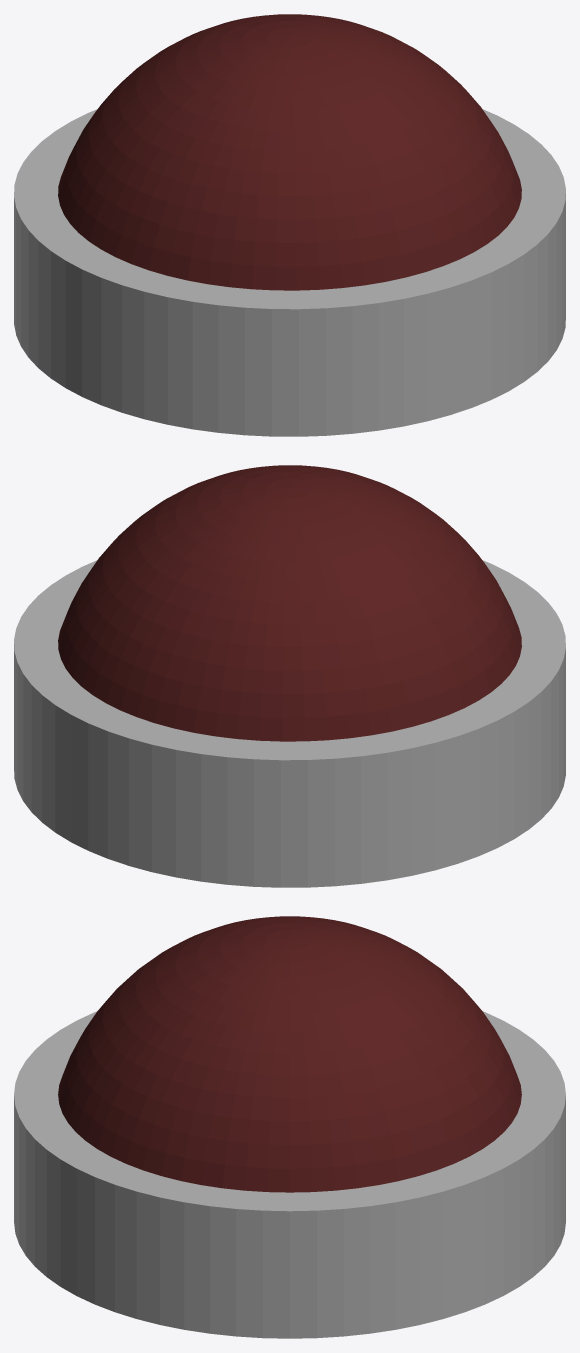
The model's file is indicatorInactive.fbx.
3 renders of one model, top to bottom at view 1: azimuth 30°, elevation 25°; view 2: azimuth 150°, elevation 25°; view 3: azimuth 270°, elevation 25°, orthographic.
Visible parts, largest first — view 1: Sphere, Cylinder; view 2: Sphere, Cylinder; view 3: Sphere, Cylinder.
Part boxes in pixels (<box>): Sphere: <box>58,14,521,290</box>; Cylinder: <box>14,109,565,436</box>; Sphere: <box>58,465,521,741</box>; Cylinder: <box>14,560,565,887</box>; Sphere: <box>58,916,521,1192</box>; Cylinder: <box>14,1011,565,1338</box>.
Size of the model in its own units: 2 by 1.13 by 2.
